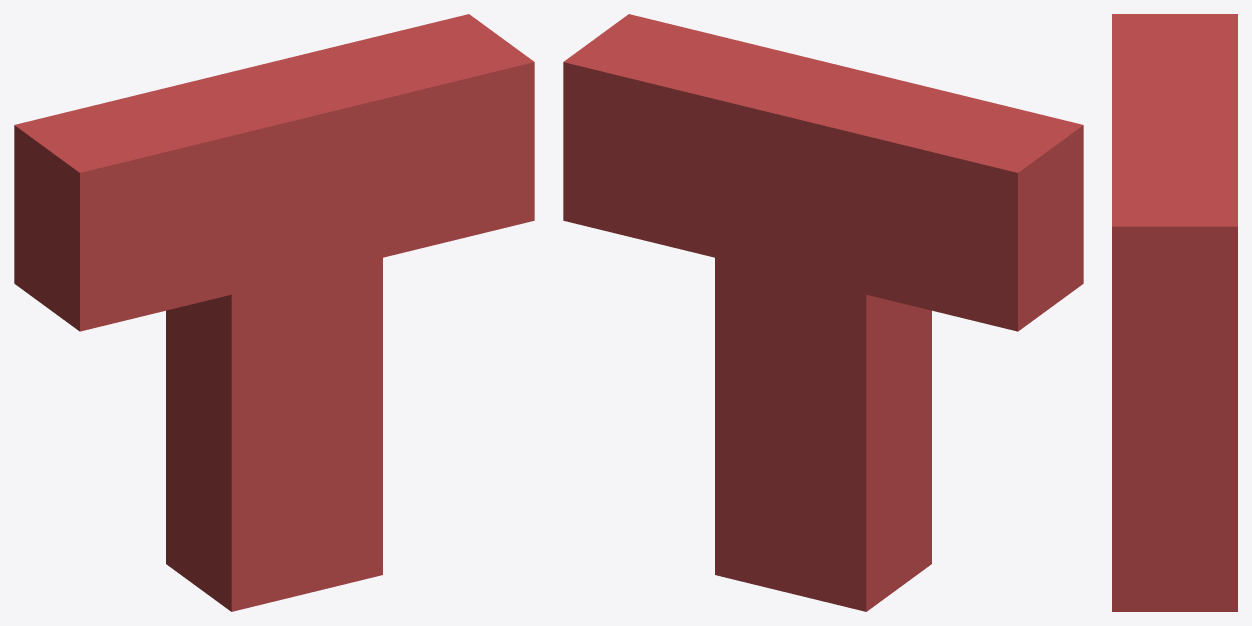
The model's file is red letter T_glb.glb.
3 views of the same model, side by side, from view 1: azimuth 30°, elevation 25°; view 2: azimuth 150°, elevation 25°; view 3: azimuth 270°, elevation 25° (orthographic). The views are drawn at different scales.
Visible parts, largest first — view 1: geometry_0; view 2: geometry_0; view 3: geometry_0.
Part boxes in pixels (bbox=[...]): geometry_0: bbox=[14, 14, 534, 611]; geometry_0: bbox=[563, 14, 1083, 611]; geometry_0: bbox=[1112, 14, 1237, 611].
Bounding box in the file's own units: 0.06 × 0.06 × 0.015.
